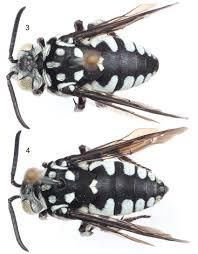Thyreus: (9, 124, 188, 250), (1, 5, 172, 121)
